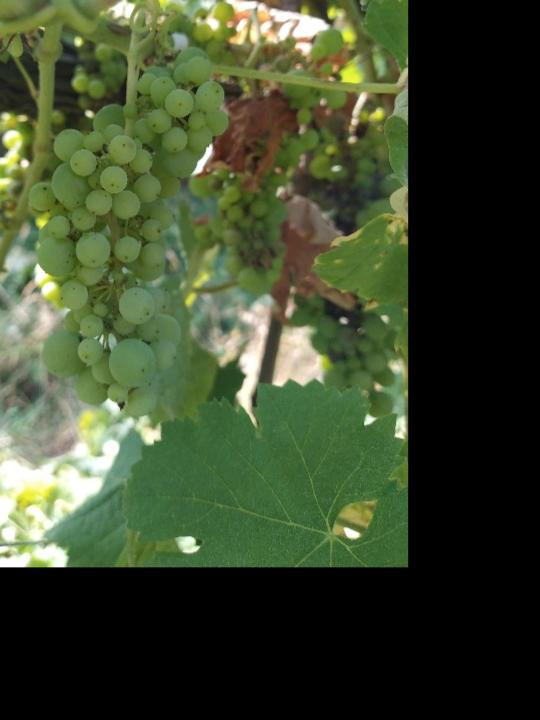grape: (26, 48, 232, 422)
